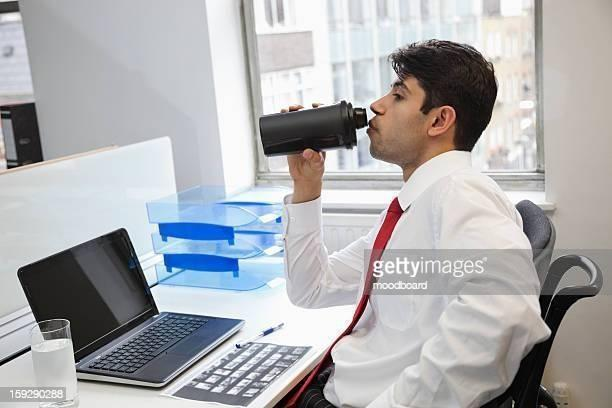glass-normal: (27, 316, 78, 407)
gym bottle: (257, 98, 367, 156)
